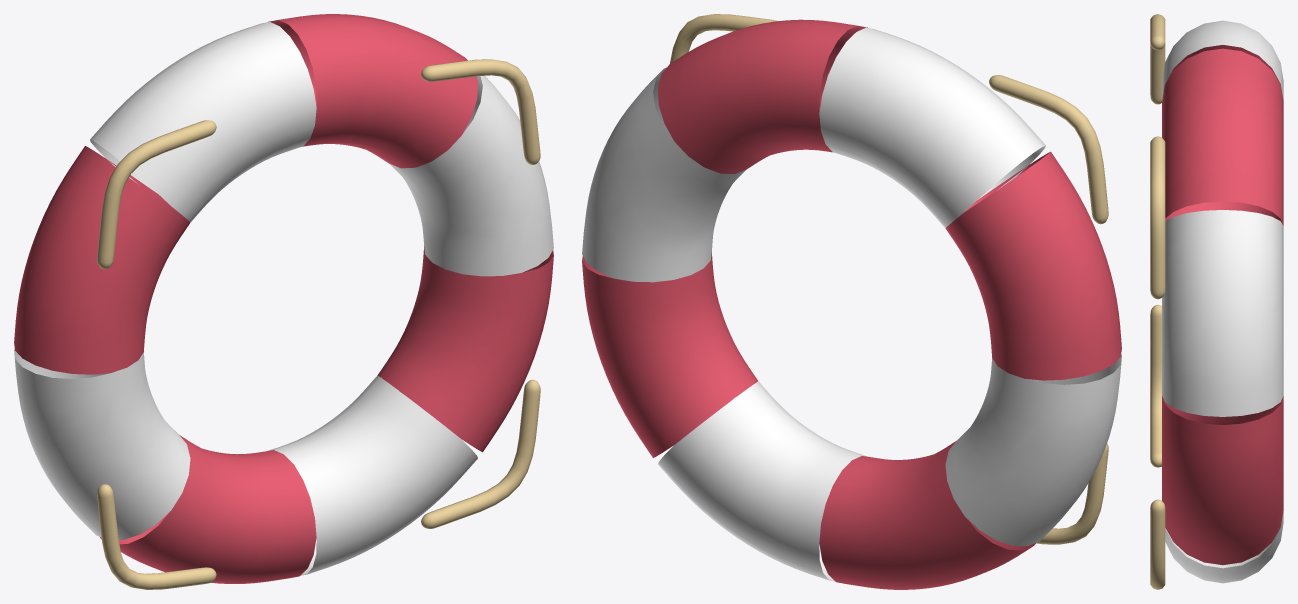
The model's file is deco_flotador.glb.
3 renders of one model, left to right at view 1: azimuth 30°, elevation 25°; view 2: azimuth 150°, elevation 25°; view 3: azimuth 270°, elevation 25°, orthographic. The views are drawn at different scales.
Parts seen in each view (by area): view 1: salvavidas 3.001, salvavidas 2.001, salvavidas 4.001, salvavidas 7.001, salvavidas 6.001, salvavidas 1.001, salvavidas 0.001, salvavidas 5.001, cuerda 1.002, cuerda 3.002, cuerda 2.002, cuerda 0.002; view 2: salvavidas 3.001, salvavidas 2.001, salvavidas 4.001, salvavidas 1.001, salvavidas 7.001, salvavidas 6.001, salvavidas 0.001, salvavidas 5.001, cuerda 1.002, cuerda 2.002, cuerda 0.002; view 3: salvavidas 0.001, salvavidas 1.001, salvavidas 7.001, salvavidas 2.001, cuerda 0.002, salvavidas 6.001, cuerda 2.002, cuerda 3.002, cuerda 1.002, salvavidas 3.001.
Part boxes in pixels (<box>): salvavidas 3.001: <box>14,146,190,374</box>; salvavidas 2.001: <box>90,22,316,222</box>; salvavidas 4.001: <box>14,348,190,539</box>; salvavidas 7.001: <box>377,246,553,452</box>; salvavidas 6.001: <box>268,375,477,575</box>; salvavidas 1.001: <box>268,14,477,168</box>; salvavidas 0.001: <box>390,75,553,276</box>; salvavidas 5.001: <box>100,435,316,583</box>; cuerda 1.002: <box>97,120,216,269</box>; cuerda 3.002: <box>421,379,540,528</box>; cuerda 2.002: <box>97,484,216,589</box>; cuerda 0.002: <box>421,59,540,164</box>; salvavidas 3.001: <box>945,151,1121,380</box>; salvavidas 2.001: <box>819,27,1045,227</box>; salvavidas 4.001: <box>945,354,1121,545</box>; salvavidas 1.001: <box>658,19,867,173</box>; salvavidas 7.001: <box>582,252,757,457</box>; salvavidas 6.001: <box>658,381,867,581</box>; salvavidas 0.001: <box>582,67,746,282</box>; salvavidas 5.001: <box>819,441,1036,589</box>; cuerda 1.002: <box>989,75,1108,224</box>; cuerda 2.002: <box>1036,443,1108,544</box>; cuerda 0.002: <box>670,14,778,63</box>; salvavidas 0.001: <box>1162,210,1283,416</box>; salvavidas 1.001: <box>1162,48,1283,225</box>; salvavidas 7.001: <box>1162,396,1283,565</box>; salvavidas 2.001: <box>1162,20,1283,100</box>; cuerda 0.002: <box>1150,136,1165,299</box>; salvavidas 6.001: <box>1165,511,1283,583</box>; cuerda 2.002: <box>1150,304,1161,467</box>; cuerda 3.002: <box>1150,499,1165,589</box>; cuerda 1.002: <box>1150,14,1165,104</box>; salvavidas 3.001: <box>1163,45,1281,91</box>.
Size of the model in its own units: 0.4334 by 0.4334 by 0.1026.
